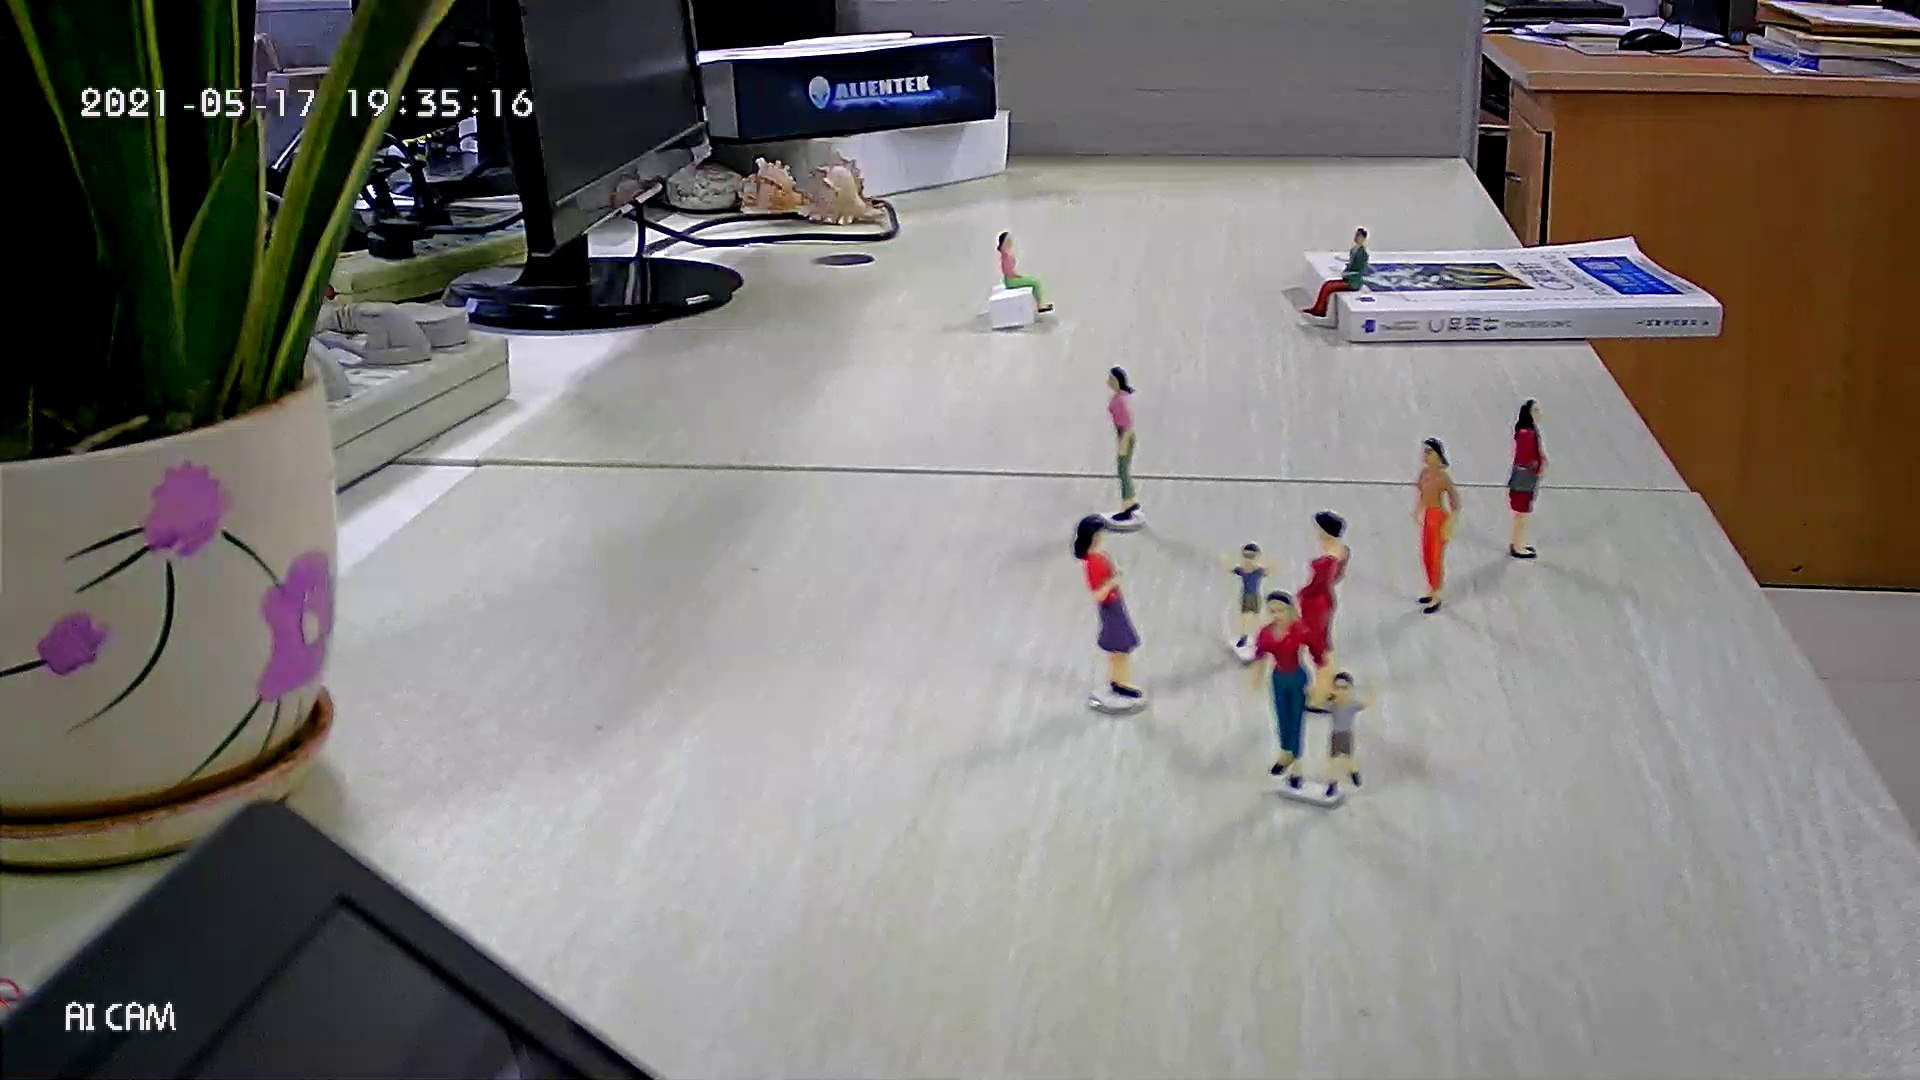person: (1250, 591, 1326, 792), (1070, 512, 1144, 701), (1292, 507, 1348, 716), (1407, 434, 1463, 617), (1301, 673, 1377, 799), (1210, 537, 1280, 649), (1504, 396, 1551, 560), (1103, 364, 1147, 521), (1298, 224, 1370, 320), (994, 229, 1059, 316)
